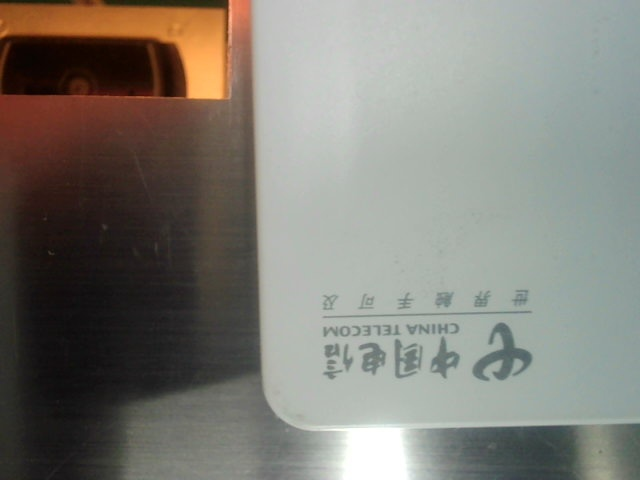AB_ChinaTelecom: (314, 288, 548, 380)
